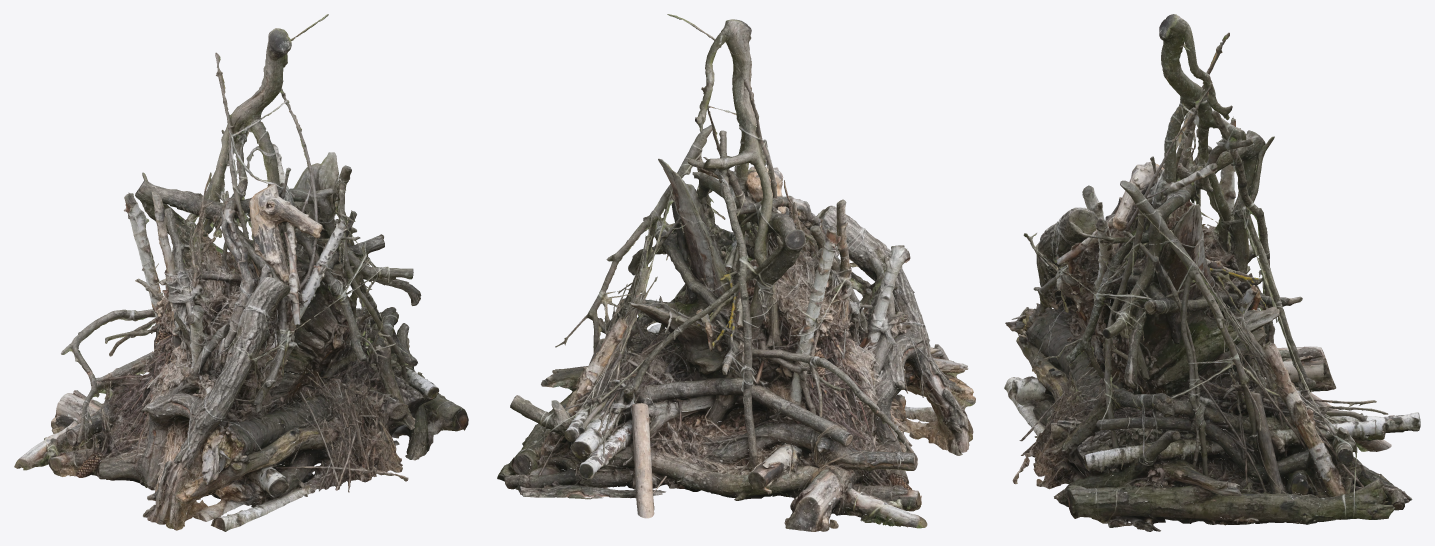
The model's file is sf-druid-wood-pile-4dbff1.glb.
3 views of the same model, side by side, from view 1: azimuth 30°, elevation 25°; view 2: azimuth 150°, elevation 25°; view 3: azimuth 270°, elevation 25° (orthographic). The views are drawn at different scales.
Parts seen in each view (by area): view 1: Model_material1_0, Model_material0_0; view 2: Model_material1_0, Model_material0_0; view 3: Model_material1_0, Model_material0_0.
Part boxes in pixels (box(x1,y1,x2,y2)): Model_material1_0: box(14, 14, 468, 530); Model_material0_0: box(14, 29, 463, 531); Model_material1_0: box(504, 14, 974, 531); Model_material0_0: box(497, 19, 975, 531); Model_material1_0: box(1006, 15, 1419, 531); Model_material0_0: box(1004, 14, 1420, 531).
Bounding box in the file's own units: 8.32 × 8.58 × 7.34.
2 materials, 2 textured.
